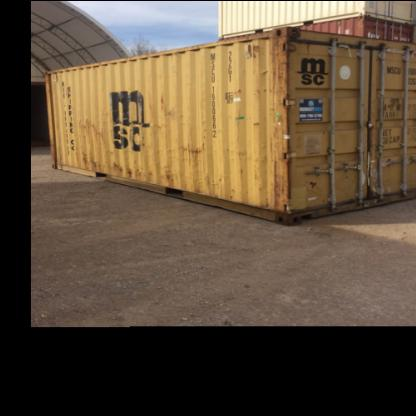Damage: (262, 31, 292, 210), (351, 146, 385, 198), (99, 156, 150, 182), (190, 172, 240, 198), (165, 134, 213, 156), (302, 170, 328, 202), (72, 112, 105, 136), (230, 108, 260, 134), (153, 92, 179, 119), (381, 92, 407, 118), (71, 148, 96, 168)
